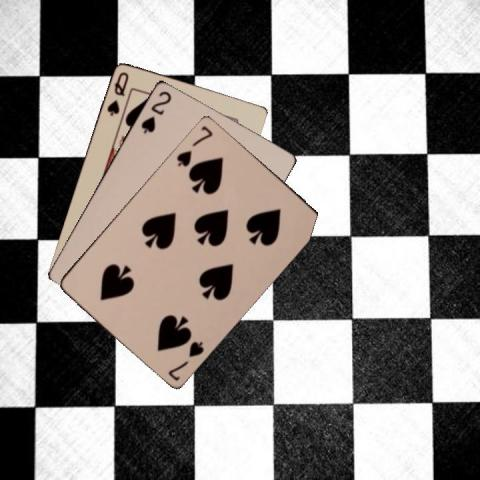2s: (138, 87, 173, 135)
7s: (173, 122, 215, 168), (165, 338, 205, 382)
Qs: (103, 69, 130, 117)
